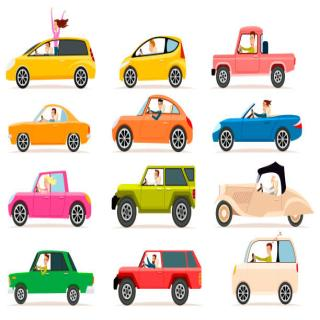Normal_vehicle: (217, 162, 314, 232), (110, 162, 202, 228), (110, 244, 204, 308), (229, 233, 303, 310), (210, 98, 305, 156), (209, 26, 291, 92), (111, 95, 199, 156), (4, 36, 97, 92), (8, 168, 90, 230), (6, 248, 94, 305), (8, 104, 91, 152), (118, 34, 190, 88)
